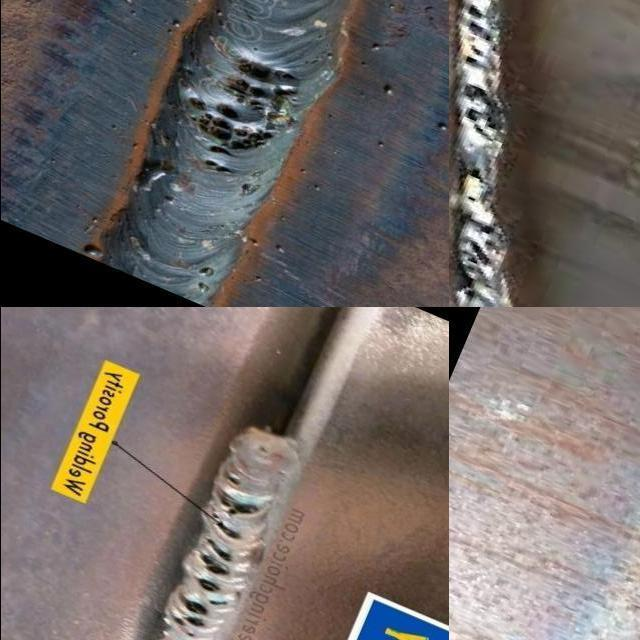defect: (187, 90, 274, 157), (226, 55, 302, 113), (456, 80, 508, 140), (459, 218, 501, 283), (455, 1, 490, 69), (171, 590, 230, 630), (216, 491, 262, 517), (209, 508, 244, 542), (198, 553, 229, 575), (455, 285, 485, 307), (465, 163, 489, 189), (206, 538, 232, 561), (203, 159, 236, 175), (195, 577, 222, 593), (224, 471, 242, 487), (464, 192, 478, 203), (185, 631, 194, 636)
